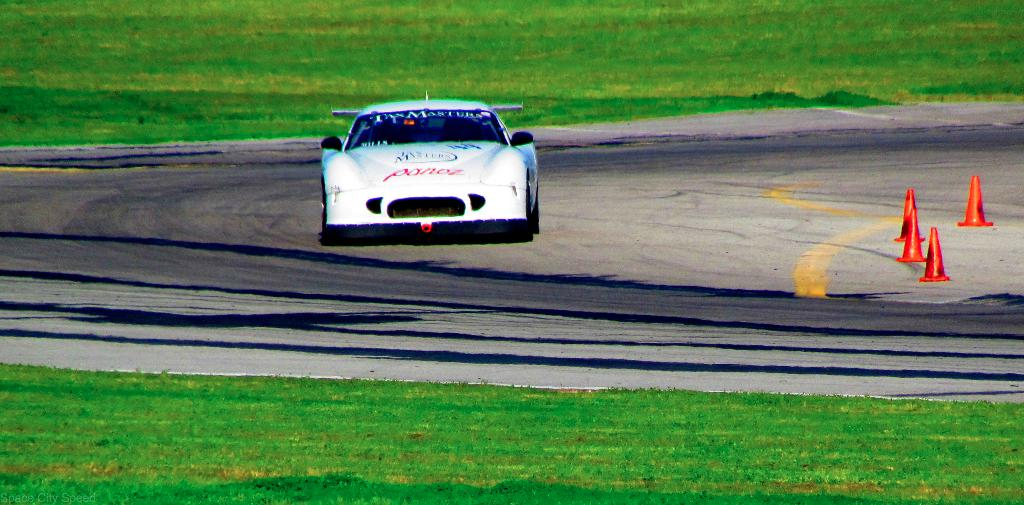Car: (321, 89, 535, 243)
